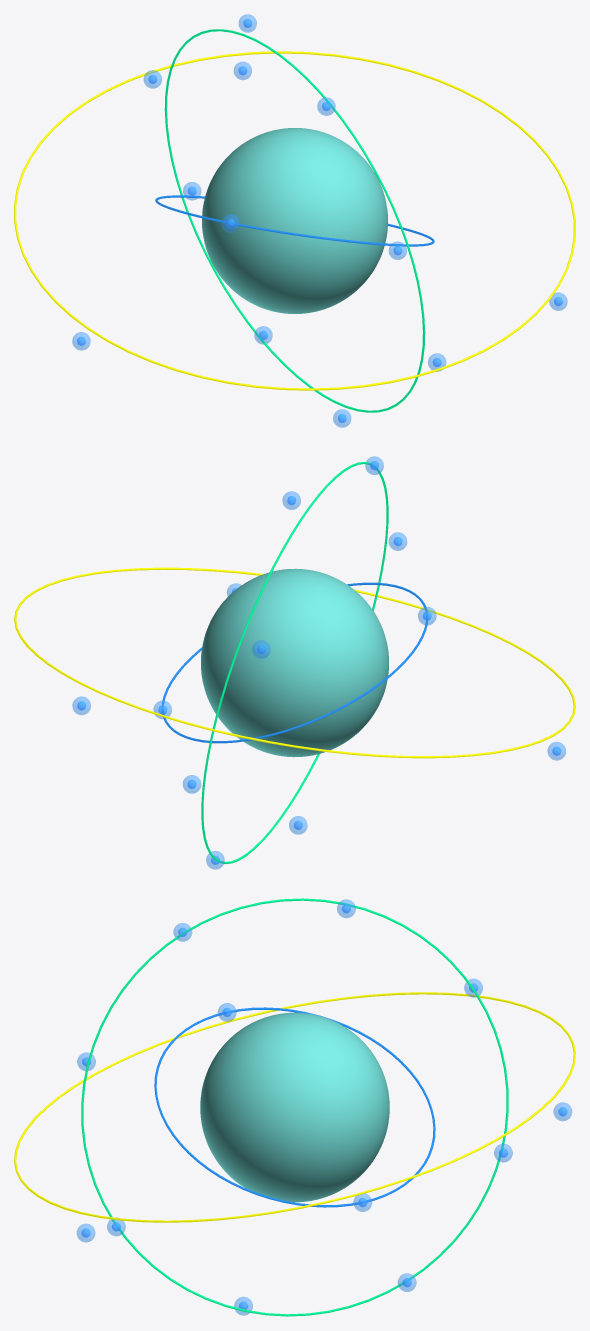
The picture shows the model from 3 angles, top to bottom: view 1: azimuth 30°, elevation 25°; view 2: azimuth 150°, elevation 25°; view 3: azimuth 270°, elevation 25°; orthographic projection.
Visible parts, largest first — view 1: Al, object 24, object 7, object 2; view 2: Al, object 24, object 7, object 2; view 3: Al, object 7, object 24, object 2.
Part boxes in pixels (bbox=[...]): Al: bbox=[202, 128, 387, 313]; object 24: bbox=[14, 51, 575, 390]; object 7: bbox=[164, 29, 425, 412]; object 2: bbox=[155, 195, 434, 246]; Al: bbox=[201, 568, 388, 757]; object 24: bbox=[14, 567, 575, 758]; object 7: bbox=[201, 461, 388, 864]; object 2: bbox=[162, 582, 428, 743]; Al: bbox=[200, 1012, 389, 1202]; object 7: bbox=[81, 898, 508, 1316]; object 24: bbox=[14, 992, 575, 1222]; object 2: bbox=[154, 1007, 435, 1207].
Size of the model in its own units: 4.82 by 3.64 by 4.72.
